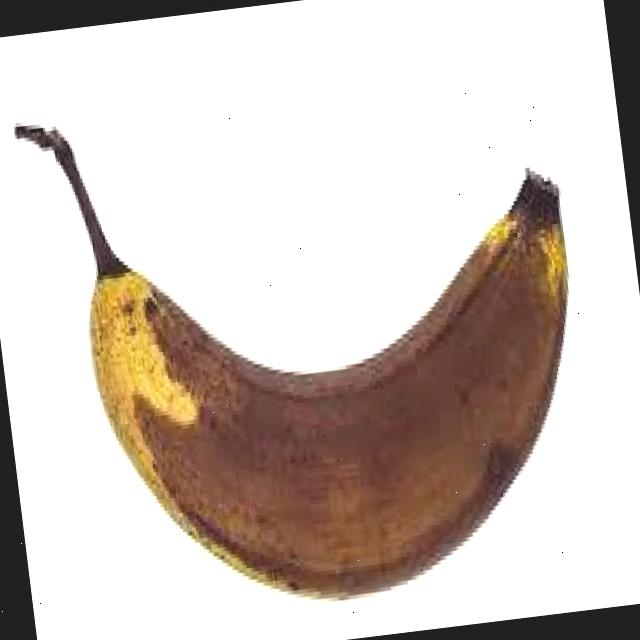Rotten: (0, 10, 630, 640)
